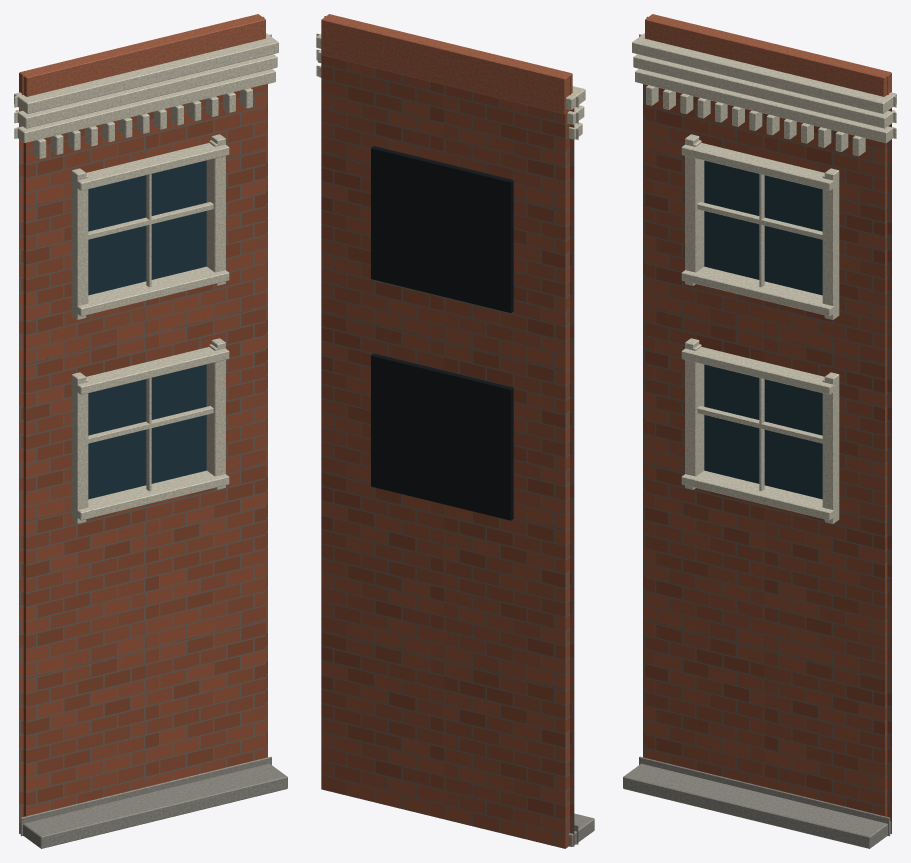
Rendered from RUNDWN13_lod1.glb.
The picture shows the model from 3 angles, left to right: view 1: azimuth 30°, elevation 25°; view 2: azimuth 150°, elevation 25°; view 3: azimuth 330°, elevation 25°; orthographic projection.
Visible parts, largest first — view 1: RUNDWN13_FRONT_LOD1; view 2: RUNDWN13_FRONT_LOD1; view 3: RUNDWN13_FRONT_LOD1.
Boxes of the visible parts, box(x1,y1,x2,y2) form: RUNDWN13_FRONT_LOD1: box(14, 14, 287, 848); RUNDWN13_FRONT_LOD1: box(316, 14, 594, 848); RUNDWN13_FRONT_LOD1: box(623, 14, 896, 848).
Bounding box in the file's own units: 3.44 × 9.66 × 0.65.
Materials: 7 (5 with a texture image).
